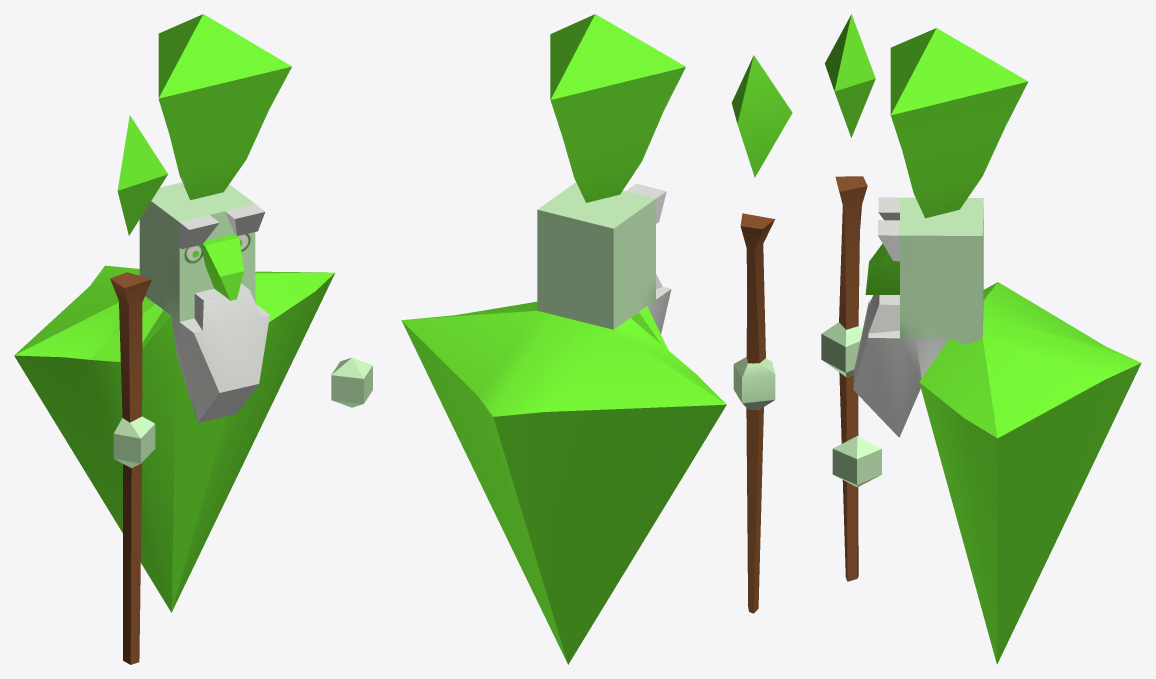
File: DiamondWiz.fbx
3 views of the same model, side by side, from view 1: azimuth 30°, elevation 25°; view 2: azimuth 150°, elevation 25°; view 3: azimuth 270°, elevation 25° (orthographic). The views are drawn at different scales.
Visible parts, largest first — view 1: Cone.001, Cone.002, Cone.003, Cone.000; view 2: Cone.001, Cone.002, Cone.003; view 3: Cone.001, Cone.002, Cone.003, Cone.000.
Part boxes in pixels (x1,y1,x2,y2): Cone.001: (14, 14, 334, 612); Cone.002: (110, 272, 155, 664); Cone.003: (117, 115, 167, 235); Cone.000: (331, 357, 372, 407); Cone.001: (401, 14, 726, 664); Cone.002: (733, 213, 775, 613); Cone.003: (731, 55, 792, 177); Cone.001: (853, 28, 1141, 664); Cone.002: (821, 176, 867, 581); Cone.003: (825, 14, 875, 137); Cone.000: (832, 436, 881, 487).
Size of the model in its own units: 416 by 767 by 349.
Materials: 1 (1 with a texture image).
